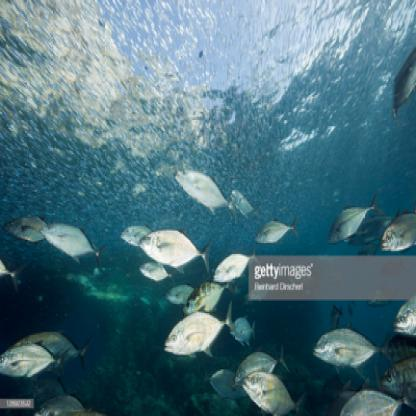Carangidae -Jacks-: (164, 299, 239, 358), (139, 223, 212, 279), (40, 215, 107, 274), (312, 317, 392, 366), (323, 185, 385, 247), (1, 338, 69, 384), (172, 160, 228, 211), (213, 241, 261, 294), (242, 372, 299, 414), (254, 208, 305, 252)
